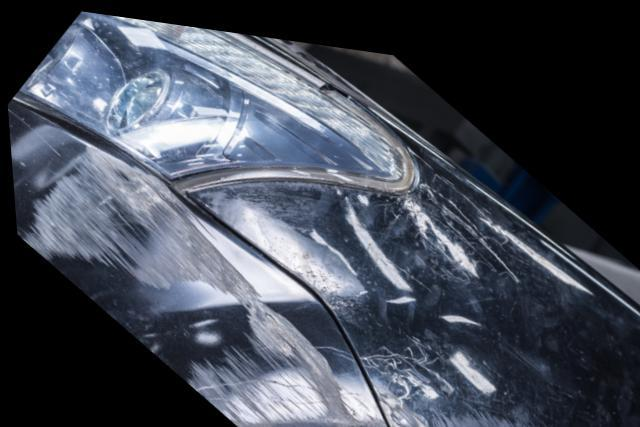scratch: (13, 133, 387, 427), (392, 383, 589, 427)
